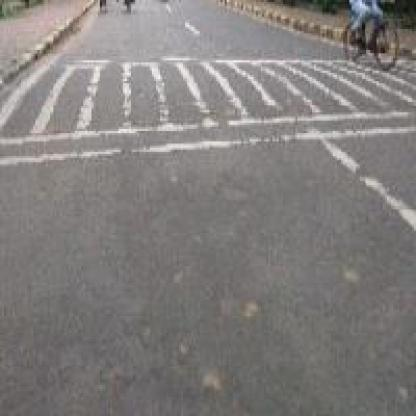Speed Bump: (2, 56, 345, 166)
